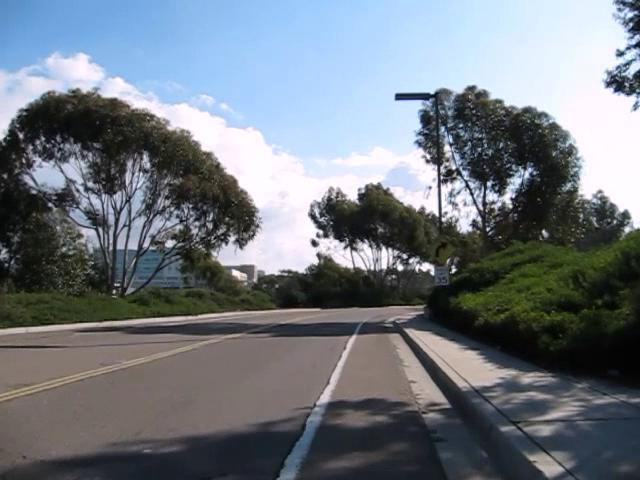speedLimit35: (433, 265, 450, 286)
